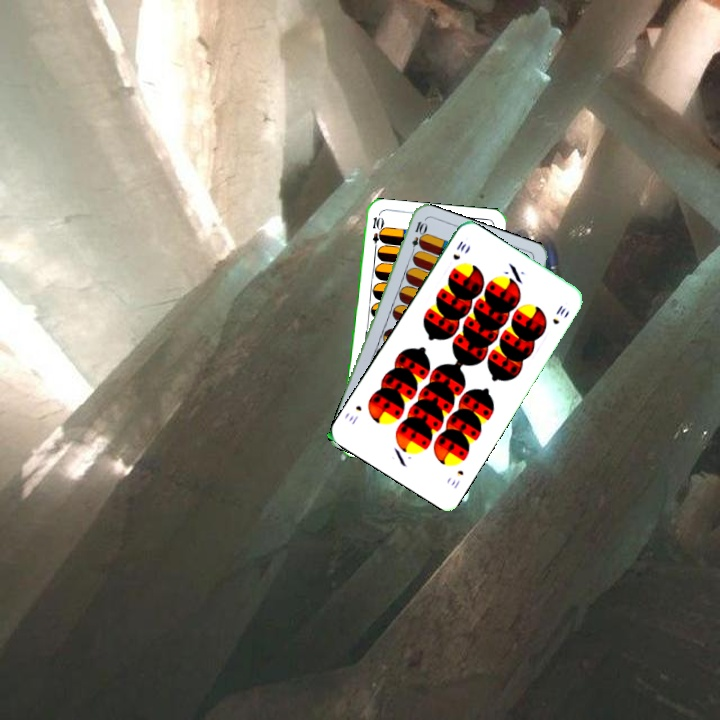E10: (407, 217, 428, 258), (368, 213, 382, 254)
S10: (449, 236, 469, 263), (447, 466, 466, 491)
